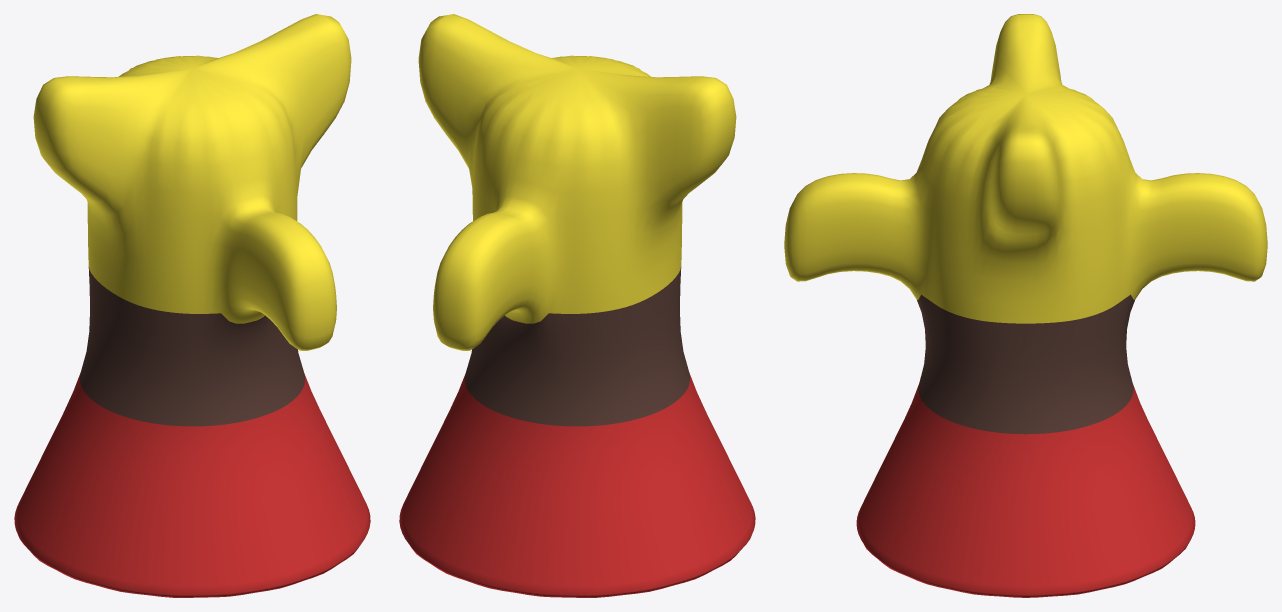
The model's file is totem_01_col.fbx.
3 views of the same model, side by side, from view 1: azimuth 30°, elevation 25°; view 2: azimuth 150°, elevation 25°; view 3: azimuth 270°, elevation 25° (orthographic). The views are drawn at different scales.
Parts seen in each view (by area): view 1: pCylinder2; view 2: pCylinder2; view 3: pCylinder2.
Boxes of the visible parts, bbox=[...] form: pCylinder2: bbox=[14, 14, 370, 597]; pCylinder2: bbox=[399, 14, 755, 597]; pCylinder2: bbox=[784, 14, 1267, 597].
Size of the model in its own units: 251 by 370 by 358.
Materials: 1 (1 with a texture image).
